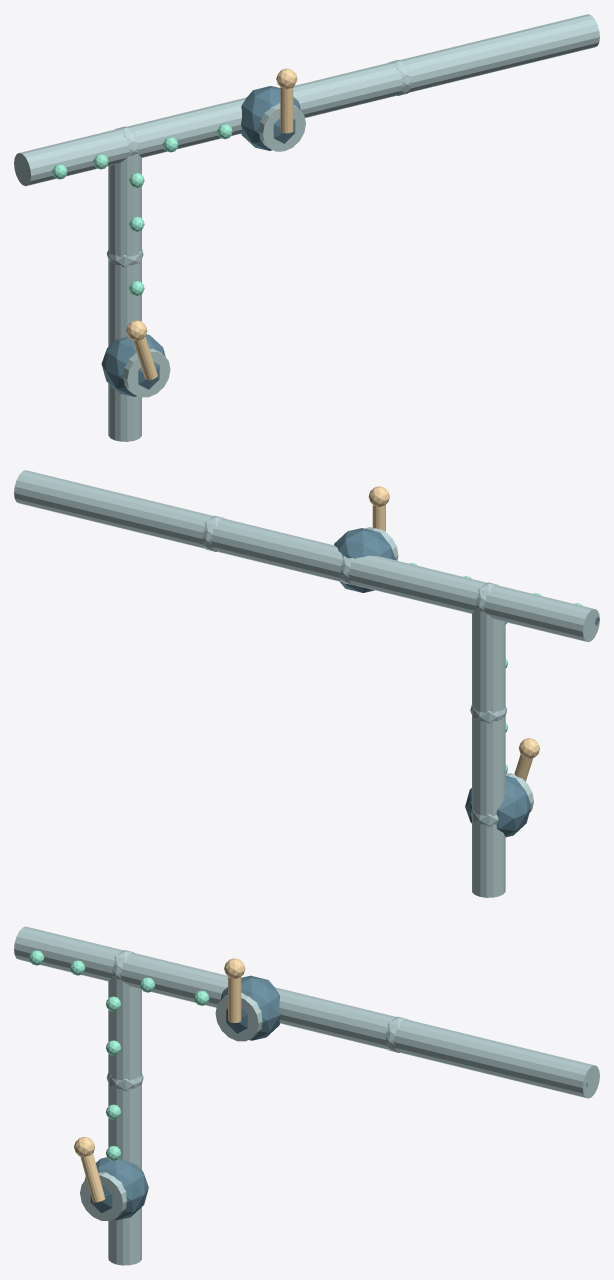
File: air-00-1.glb
The picture shows the model from 3 angles, top to bottom: view 1: azimuth 30°, elevation 25°; view 2: azimuth 150°, elevation 25°; view 3: azimuth 330°, elevation 25°; orthographic projection.
Visible parts, largest first — view 1: pipe, dark, handle, flow; view 2: pipe, dark, handle; view 3: pipe, dark, handle, flow.
Part boxes in pixels (x1,y1,x2,y2): pipe: (14,14,599,441); dark: (28,86,300,396); handle: (126,68,297,380); flow: (52,124,232,295); pipe: (14,470,599,897); dark: (334,528,599,837); handle: (368,486,539,781); pipe: (14,926,599,1265); dark: (84,975,587,1220); handle: (74,958,245,1202); flow: (29,950,209,1160).
Bounding box in the file's own units: 2.77 × 1.64 × 0.343.
